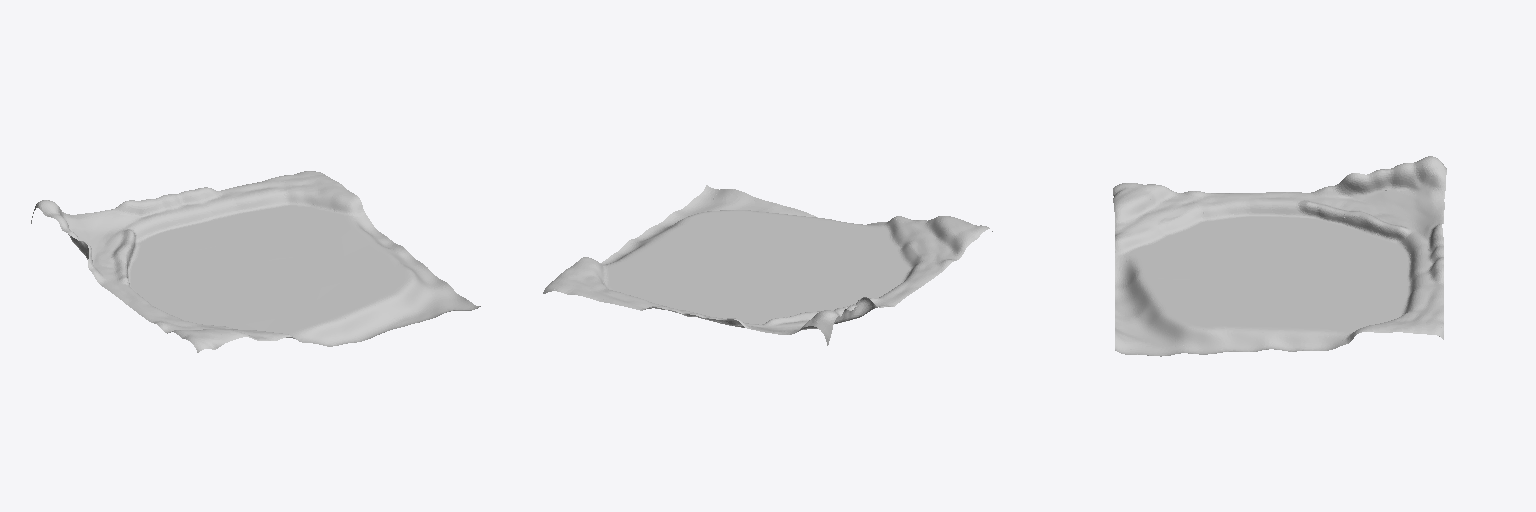
File: world.obj
3 renders of one model, left to right at view 1: azimuth 30°, elevation 25°; view 2: azimuth 150°, elevation 25°; view 3: azimuth 270°, elevation 25°, orthographic.
Parts seen in each view (by area): view 1: Plane; view 2: Plane; view 3: Plane.
Part boxes in pixels (x1,y1,x2,y2): Plane: (31,171,480,352); Plane: (543,185,992,345); Plane: (1113,156,1446,356).
Size of the model in its own units: 24.34 by 5.25 by 24.52.